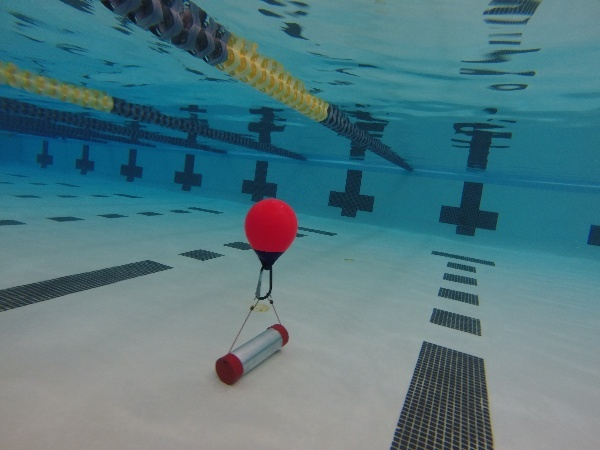buoy_red: (240, 196, 302, 275)
